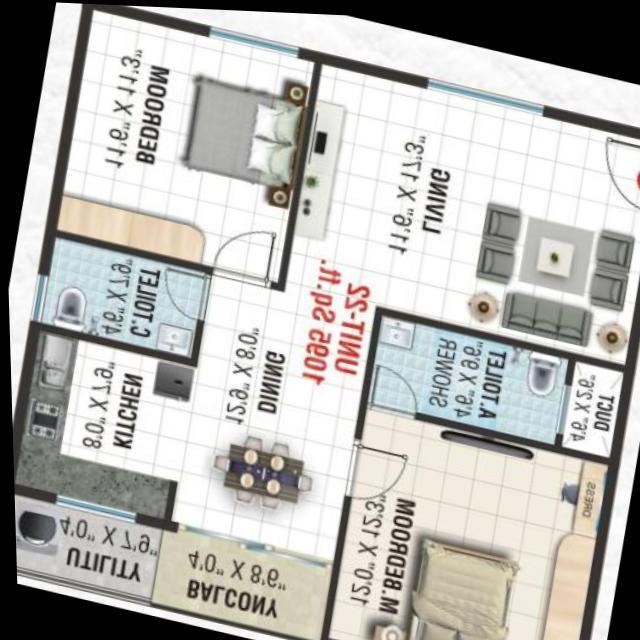Balcony-Sitout: (145, 516, 333, 640)
Bedroom: (40, 3, 326, 288)
Bedroom with Toilet: (323, 307, 605, 640)
Dining: (198, 421, 321, 518)
Enterance-Foyer: (581, 123, 640, 209)
Kitchen: (10, 318, 196, 530)
Living: (449, 86, 640, 366)
Toilet: (24, 224, 214, 366)
Utility: (11, 482, 166, 607)
